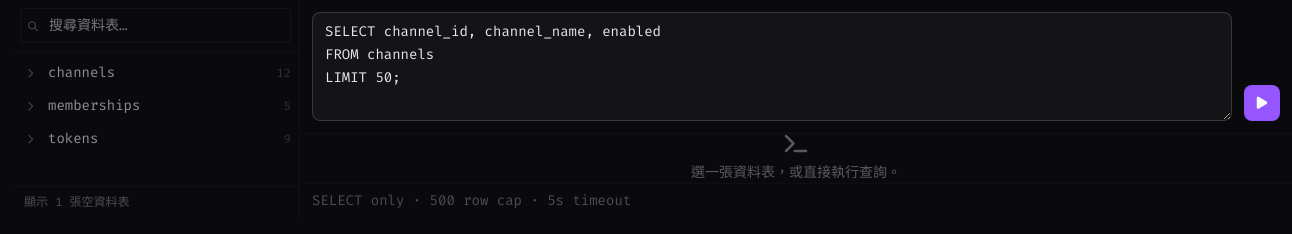
Test: DbConsole › hides empty tables by default and reveals them via the toggle
Expected: the text "channels" is shown, [48,63,115,82]
Expected: the text "game_queue_entries" is not shown
Click the button "顯示 1 張空資料表": (77, 202) [12,186,299,217]
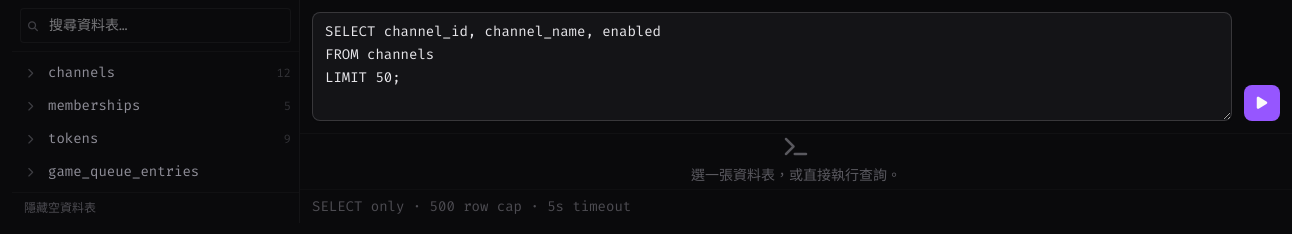
Now the text "game_queue_entries" is shown, box [48,162,199,181]
